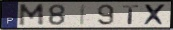8: (47, 4, 67, 26)
9: (97, 4, 116, 26)
I: (79, 4, 87, 26)
M: (18, 3, 45, 27)
T: (122, 5, 141, 25)
X: (143, 3, 168, 26)
